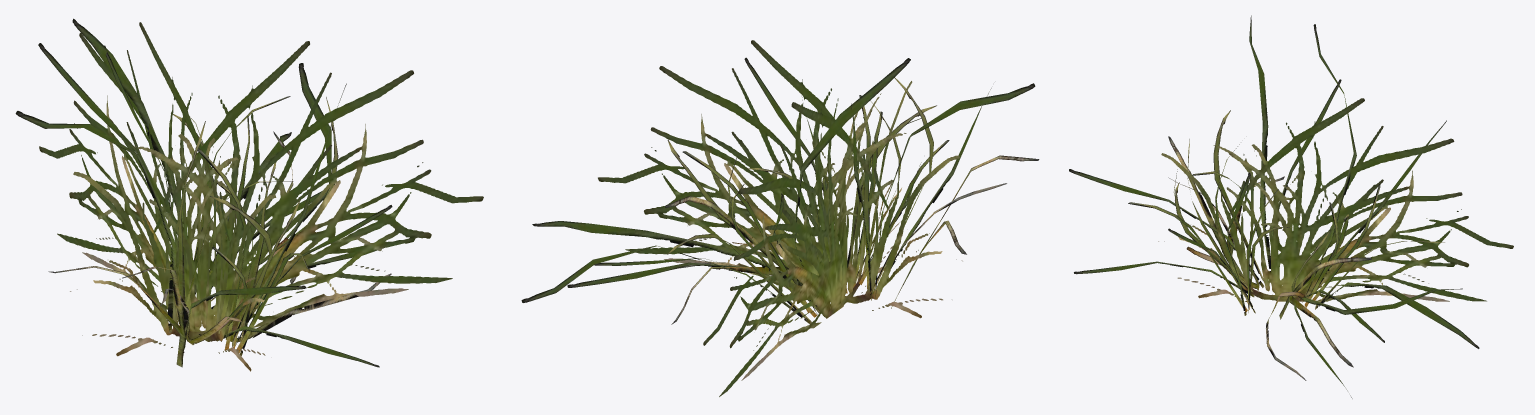
The model's file is capim_1.glb.
3 renders of one model, left to right at view 1: azimuth 30°, elevation 25°; view 2: azimuth 150°, elevation 25°; view 3: azimuth 270°, elevation 25°, orthographic. The views are drawn at different scales.
Parts seen in each view (by area): view 1: capim; view 2: capim; view 3: capim.
Boxes of the visible parts, x1=… form: capim: x1=15, y1=18, x2=483, y2=371; capim: x1=521, y1=40, x2=1039, y2=396; capim: x1=1069, y1=15, x2=1513, y2=398.
Bounding box in the file's own units: 0.4103 × 0.275 × 0.4401.
Materials: 1 (1 with a texture image).
